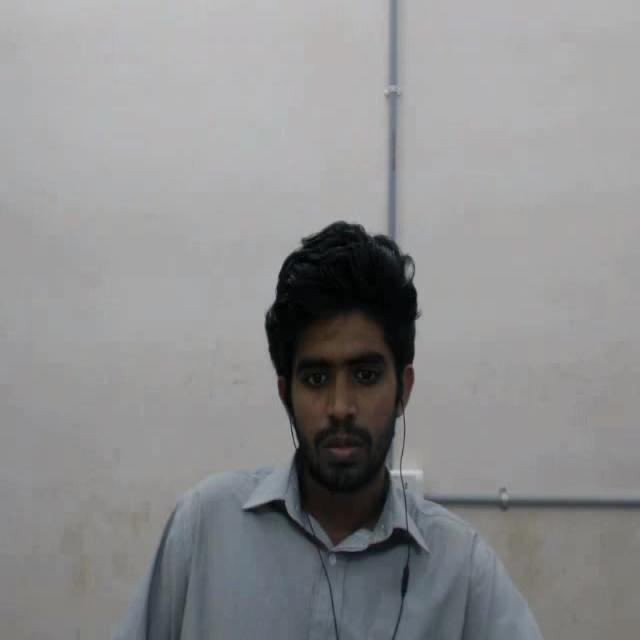Engaged: (246, 182, 442, 513)
